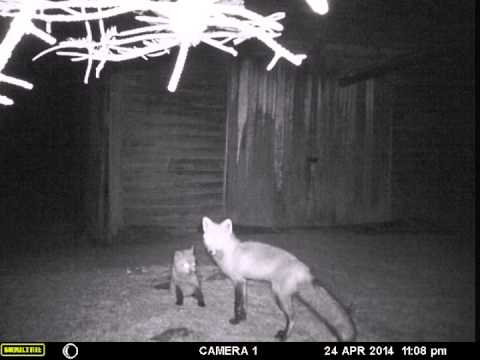fox: (191, 208, 369, 341), (143, 238, 213, 310)
